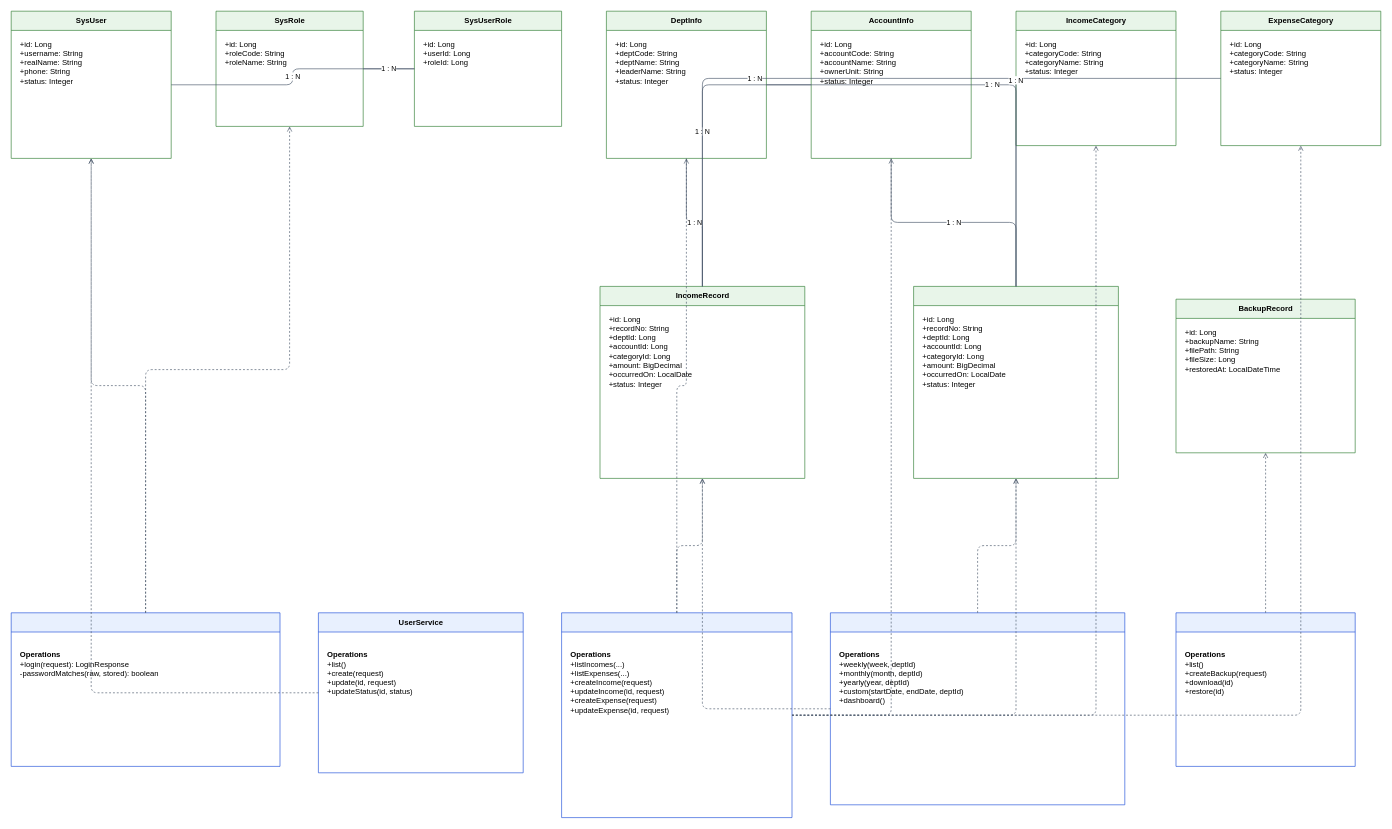
This 1392x829 diagram has some shape labels left out. Here are the shapes that lost their labels. From the top down, the box of each, then its label:
(913, 286, 1118, 478): ExpenseRecord
(11, 612, 280, 766): AuthService
(830, 612, 1125, 805): ReportService
(1175, 612, 1355, 766): BackupService
(561, 612, 792, 818): RecordService
